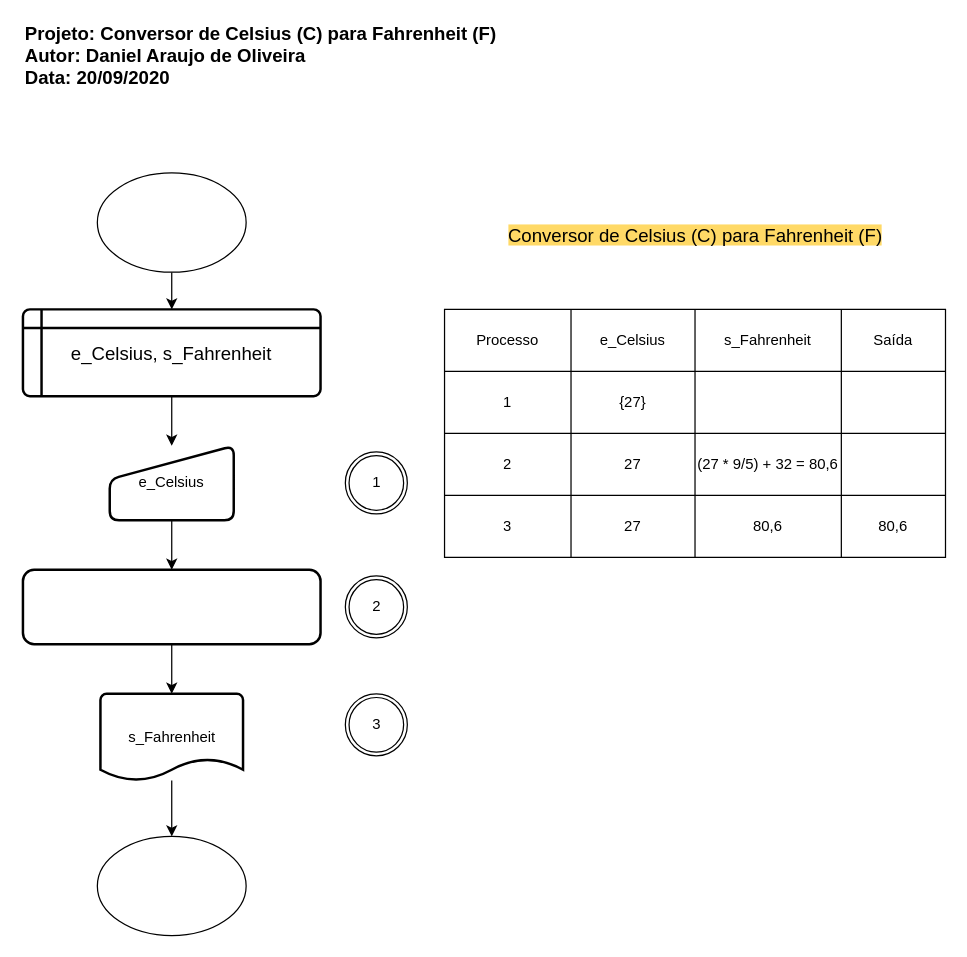
The diagram is 967 pixels wide and 957 high, and some of its shapes have lost their labels. The shapes that lost their labels are listed below. From the top down, each one's centre as x and y in pixels, then its label:
At (x=171, y=222): "Inicio".
At (x=171, y=606): "s_Fahrenheit = (e_Celsius * 9/5) + 32".
At (x=171, y=885): "Fim".
